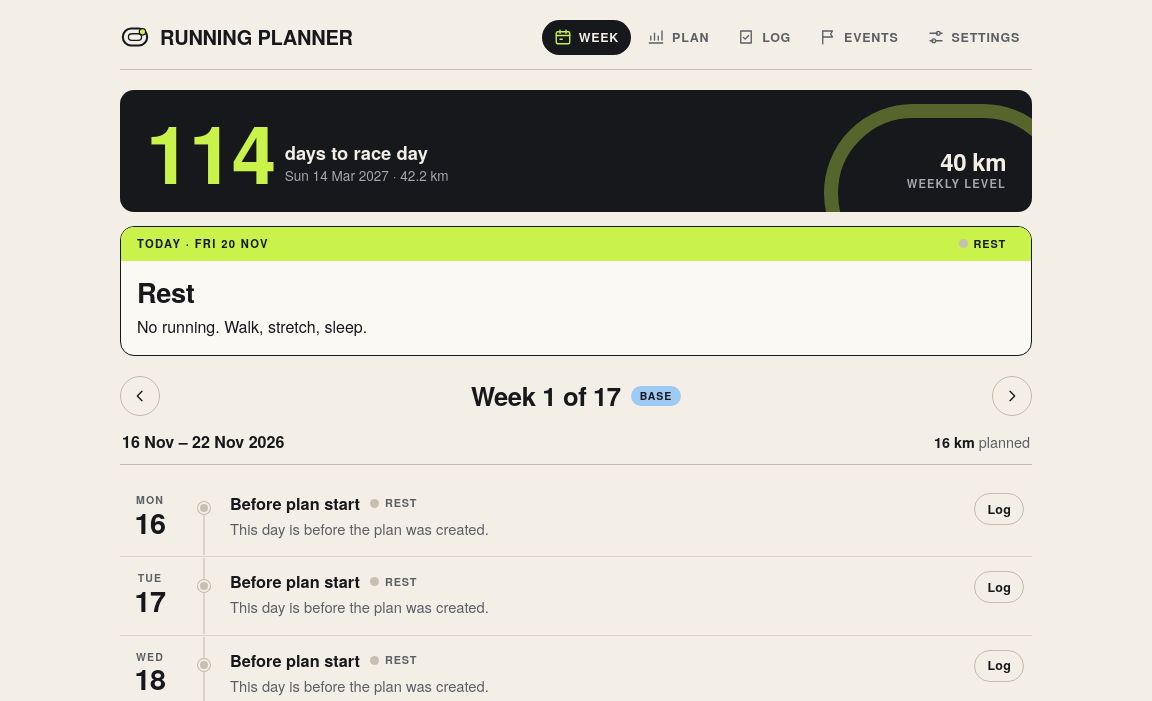
logging past runs › navigates back into past weeks and logs from a day card there
expect the heading "Week 1 of 17 Base" is shown: met, box [471, 382, 681, 410]
Click the button named "Previous week".
click(140, 396)  # box [120, 376, 160, 416]
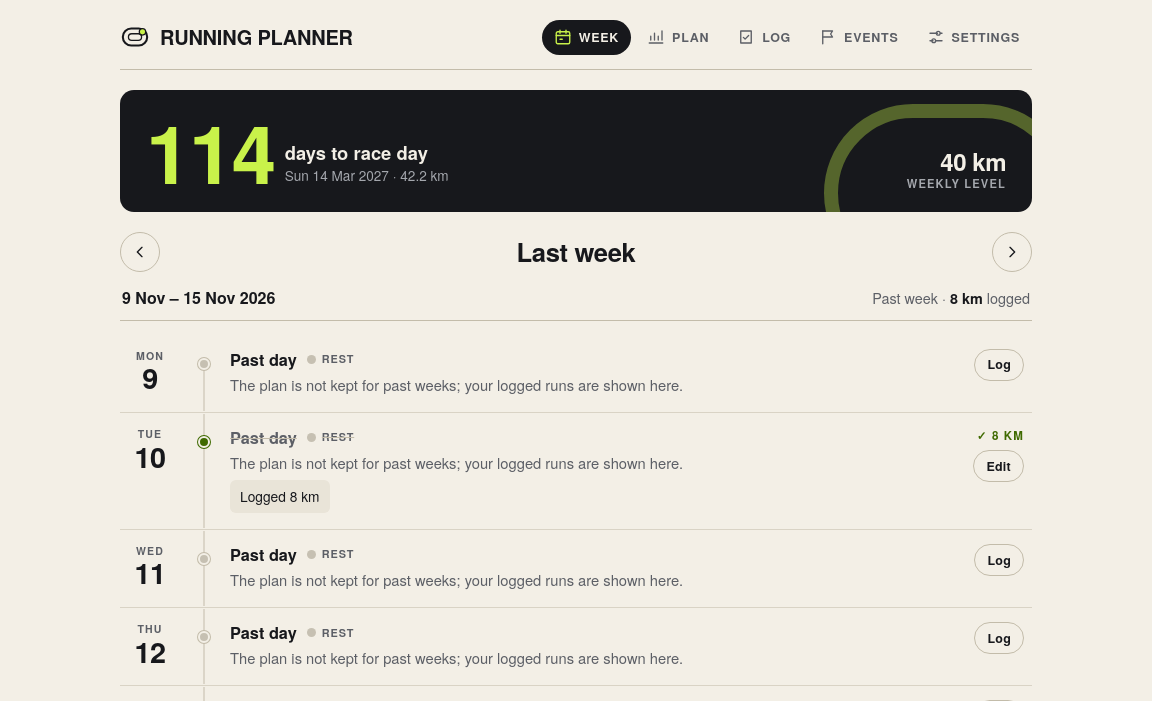
expect the heading "Last week" is shown: met, box [517, 238, 635, 266]
expect the text "Logged 8 km" is shown: met, box [240, 486, 320, 507]
expect the number of buttons "Log" is 6: met
Click the button "Log" in the row of "Mon".
click(999, 365)  # box [974, 349, 1024, 381]
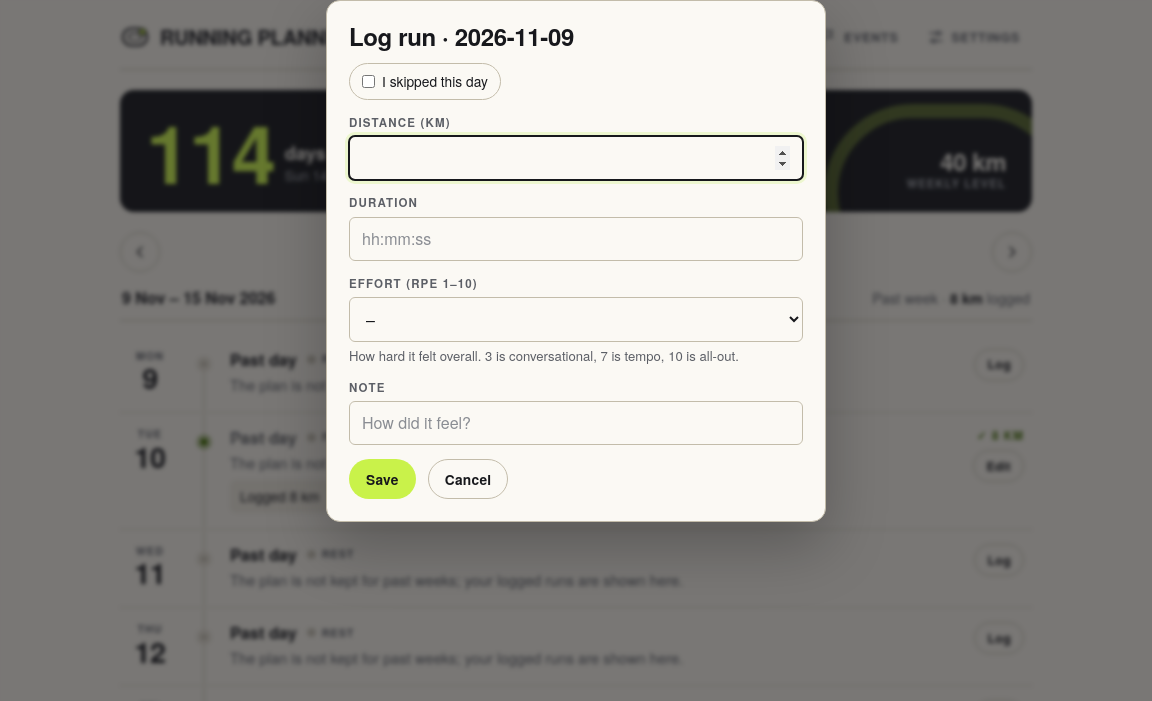
expect the dialog shows "2026-11-09": met, box [436, 19, 574, 53]
Type "6" into the number field labelled "Distance (km)".
click(576, 158); type("6")  # box [349, 136, 803, 180]
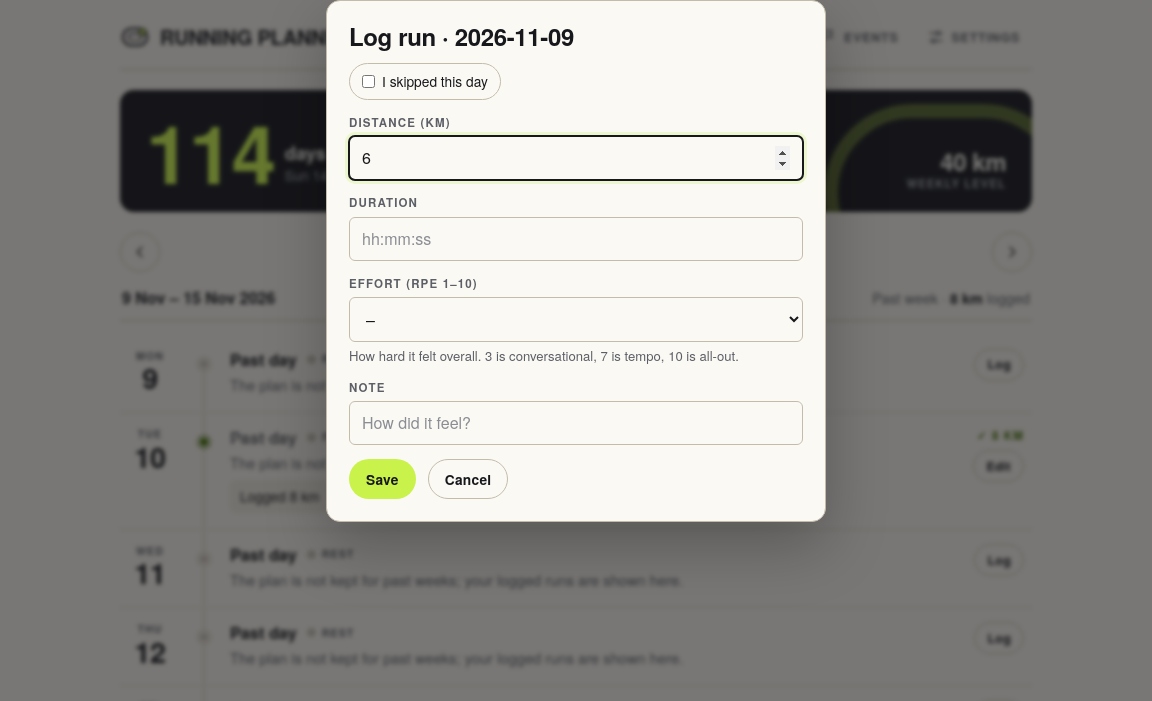
Submit the form, box [349, 23, 803, 500]
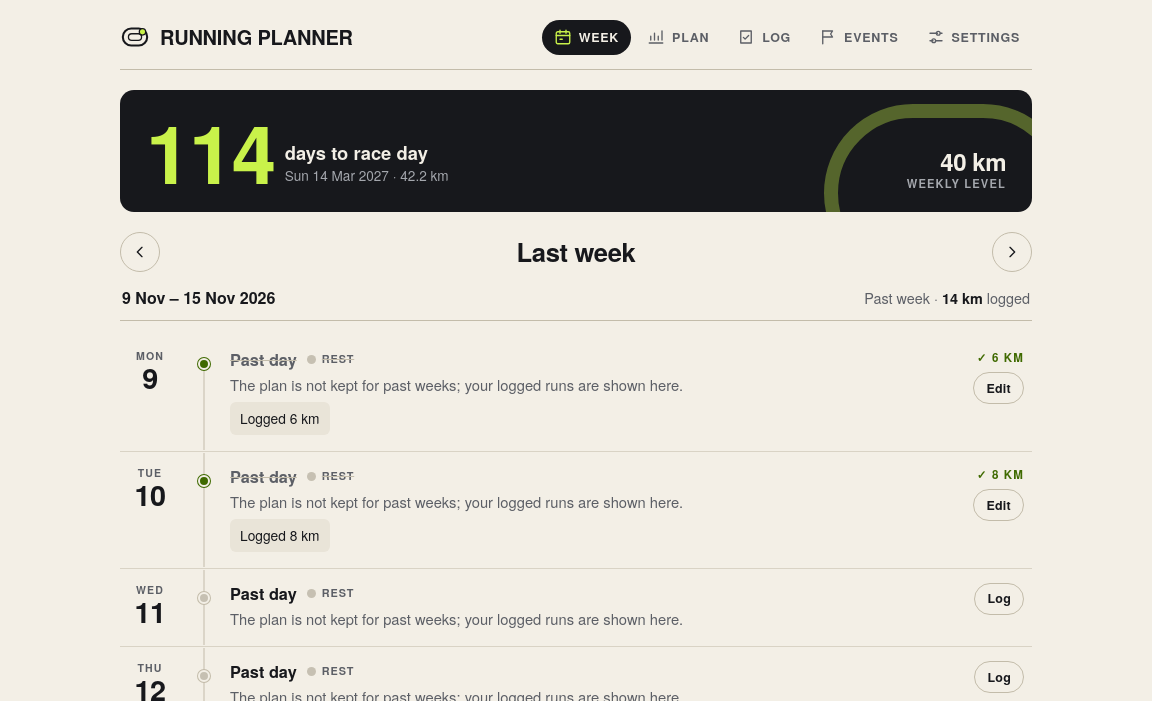
Click the button named "Previous week".
click(140, 252)  # box [120, 232, 160, 272]
(page scrolled)
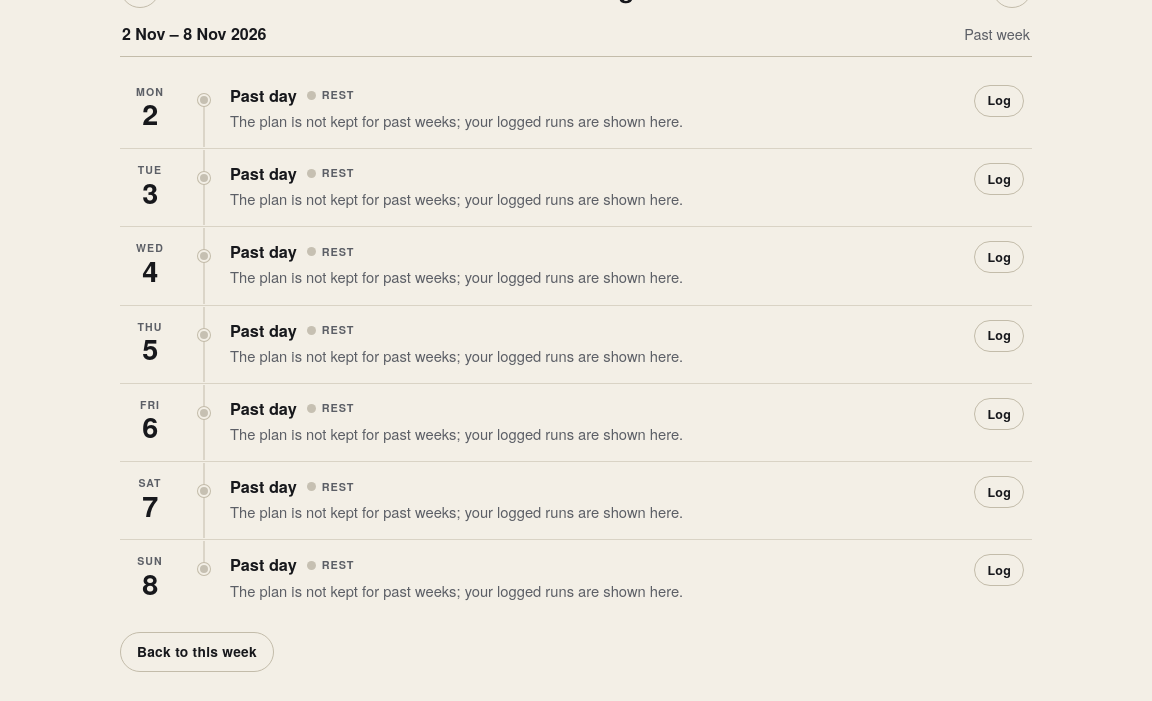
Click the button "Back to this week".
click(197, 652)  # box [120, 632, 274, 672]
(page scrolled)
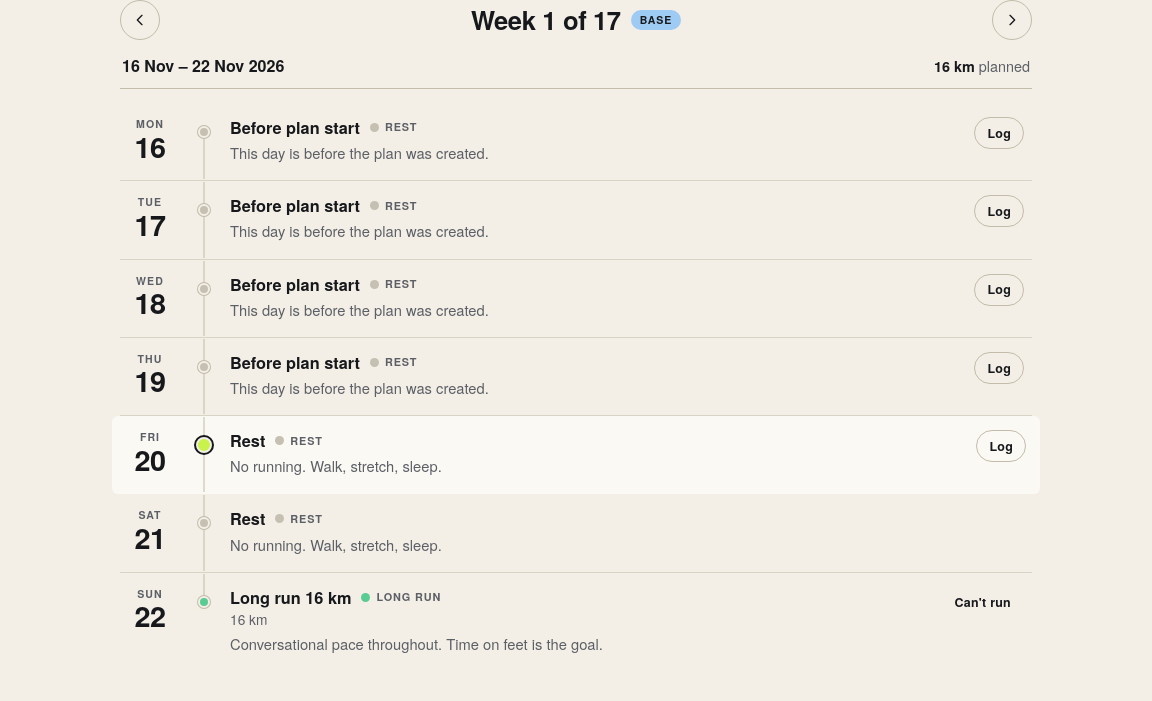
expect the heading "Week 1 of 17 Base" is shown: met, box [471, 6, 681, 34]
